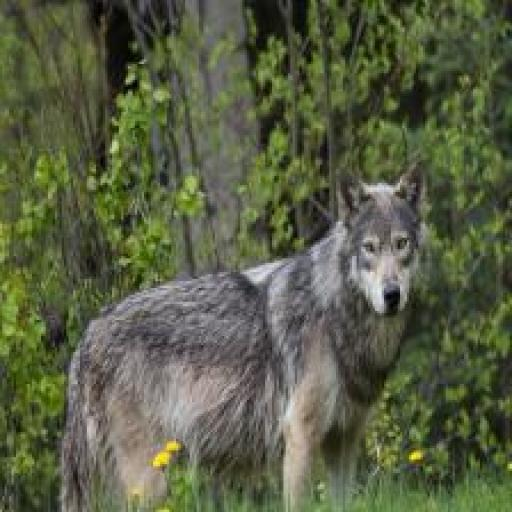wolf: (57, 155, 433, 510)
